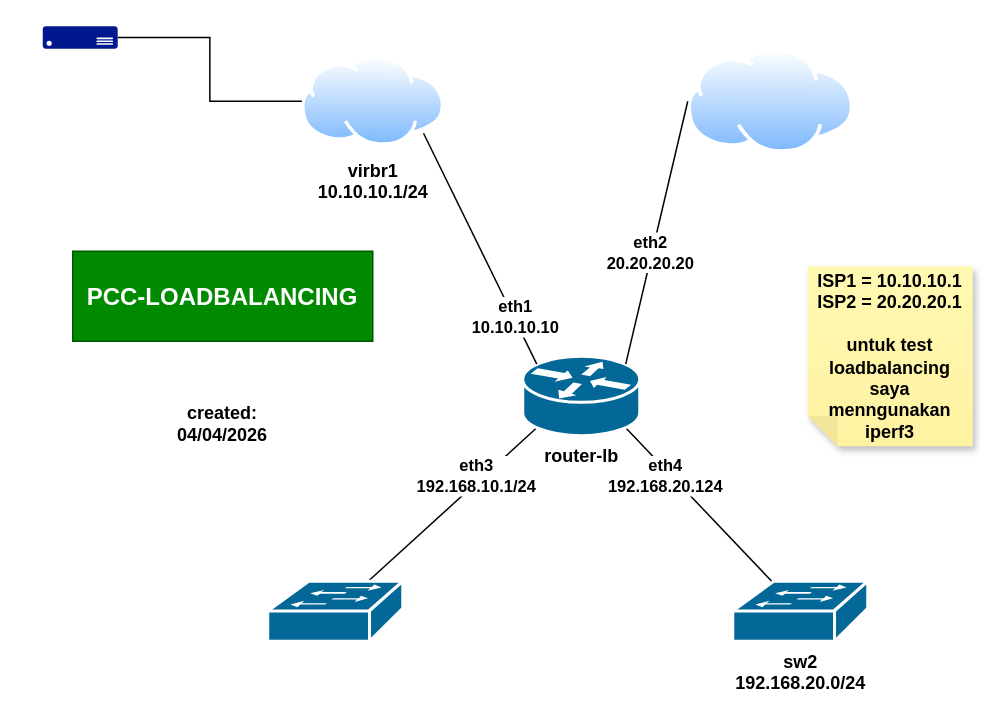
The diagram is 1008 pixels wide and 720 high, and some of its shapes have lost their labels. The shapes that lost their labels are listed below. From the top down, each one's centre as x and y in pixels, then its label:
At point (79, 37): "iperf3-server 10.47.8.26/24".
At point (770, 100): "virbr2 20.20.20.1/24".
At point (335, 610): "sw1 192.168.10.0/24".
